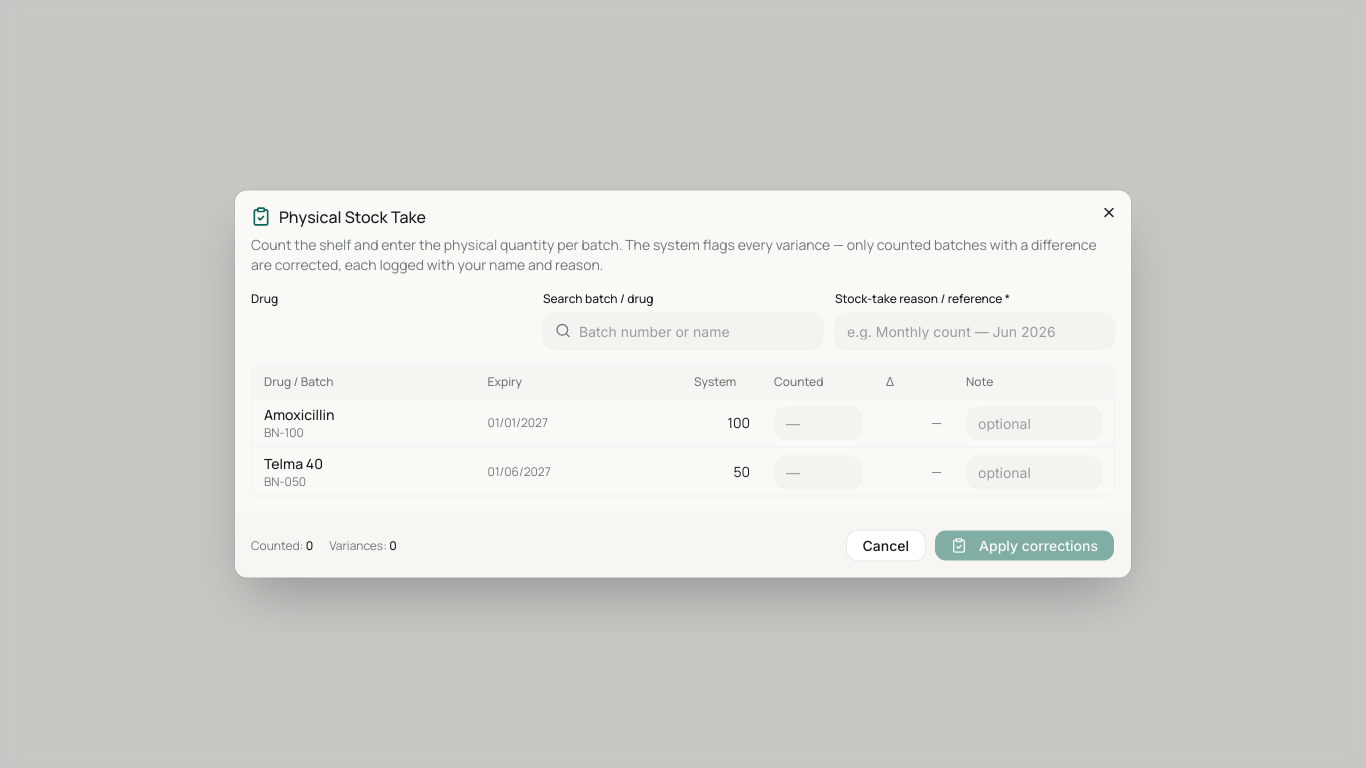
Test case: StockTakeDialog (G4 — physical count flags variance before write) › disables Apply until at least one physical count is entered
Expected: the button "Apply corrections" is disabled, x1=934 y1=530 x2=1115 y2=562
Type "90" into the number field with placeholder "—" in the row of "Amoxicillin" at (818, 422), box x1=774 y1=406 x2=862 y2=438
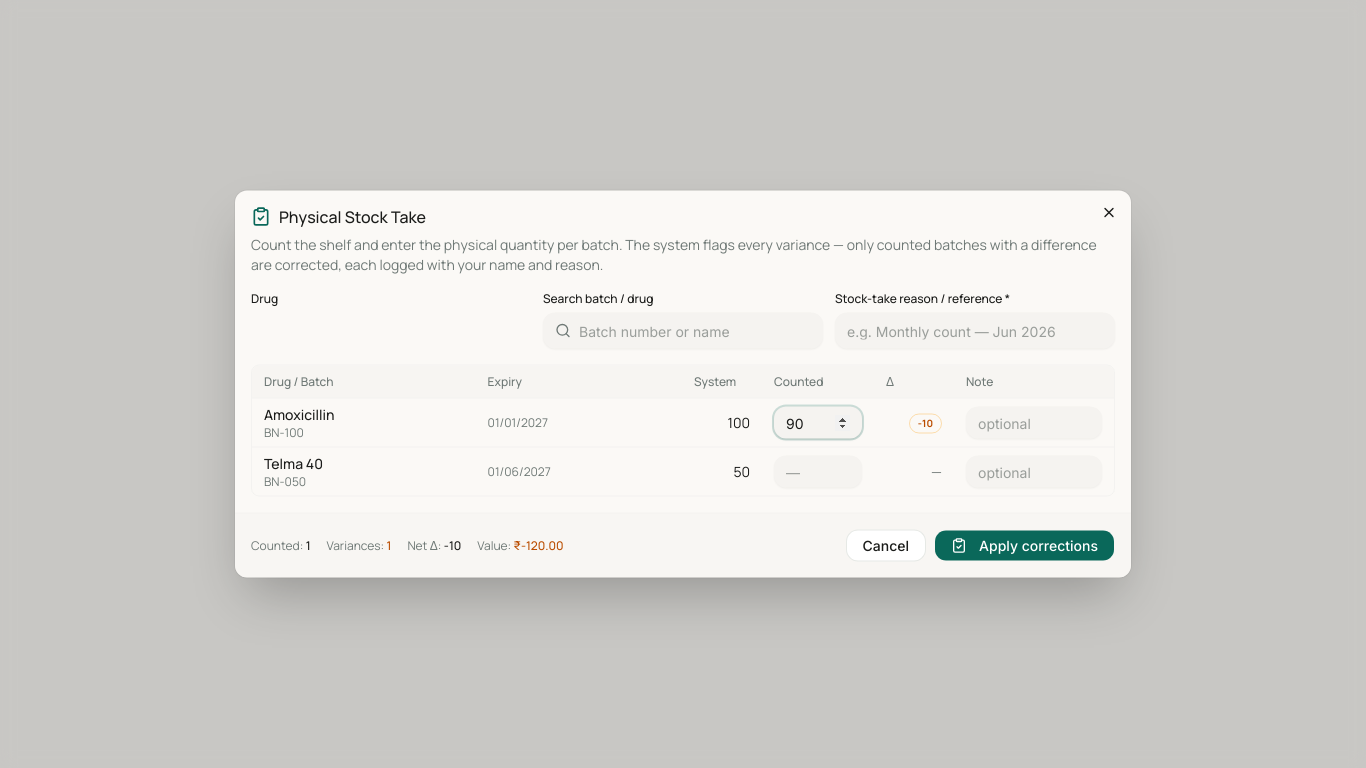
Result: the button "Apply corrections" is enabled at x1=934 y1=530 x2=1115 y2=562
